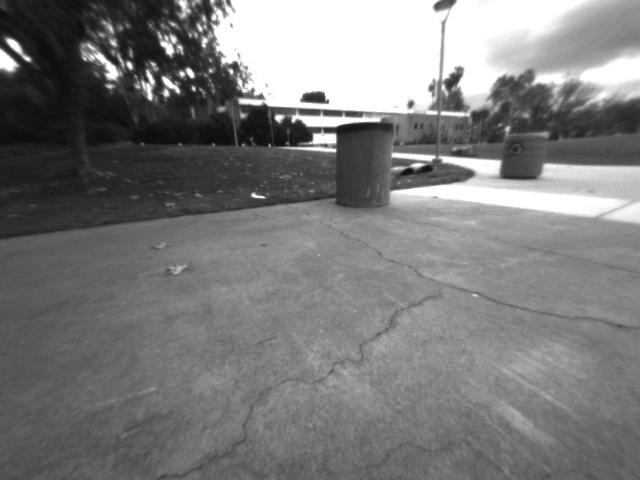trashcan: (336, 117, 396, 209), (500, 130, 549, 183)
